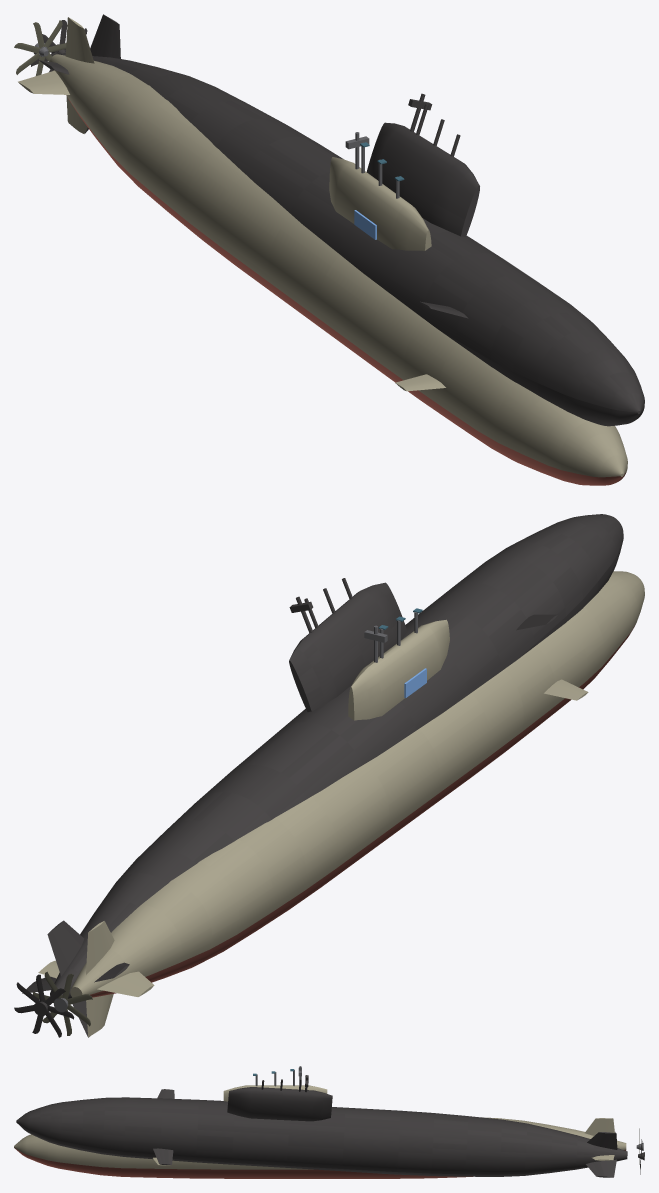
The model's file is submarine__agosta_90b.glb.
The picture shows the model from 3 angles, top to bottom: view 1: azimuth 30°, elevation 25°; view 2: azimuth 150°, elevation 25°; view 3: azimuth 270°, elevation 25°; orthographic projection. The views are drawn at different scales.
Visible parts, largest first — view 1: Hull_Mesh, Wreck; view 2: Hull_Mesh, Wreck; view 3: Wreck, Hull_Mesh.
Boxes of the visible parts, bbox=[...] form: Hull_Mesh: bbox=[14, 17, 627, 485]; Wreck: bbox=[30, 14, 644, 426]; Hull_Mesh: bbox=[33, 571, 644, 1037]; Wreck: bbox=[14, 514, 623, 1037]; Wreck: bbox=[16, 1075, 644, 1177]; Hull_Mesh: bbox=[14, 1069, 643, 1178].
Size of what is drawn, in the model's own units: 11.93 by 13.86 by 66.89.
